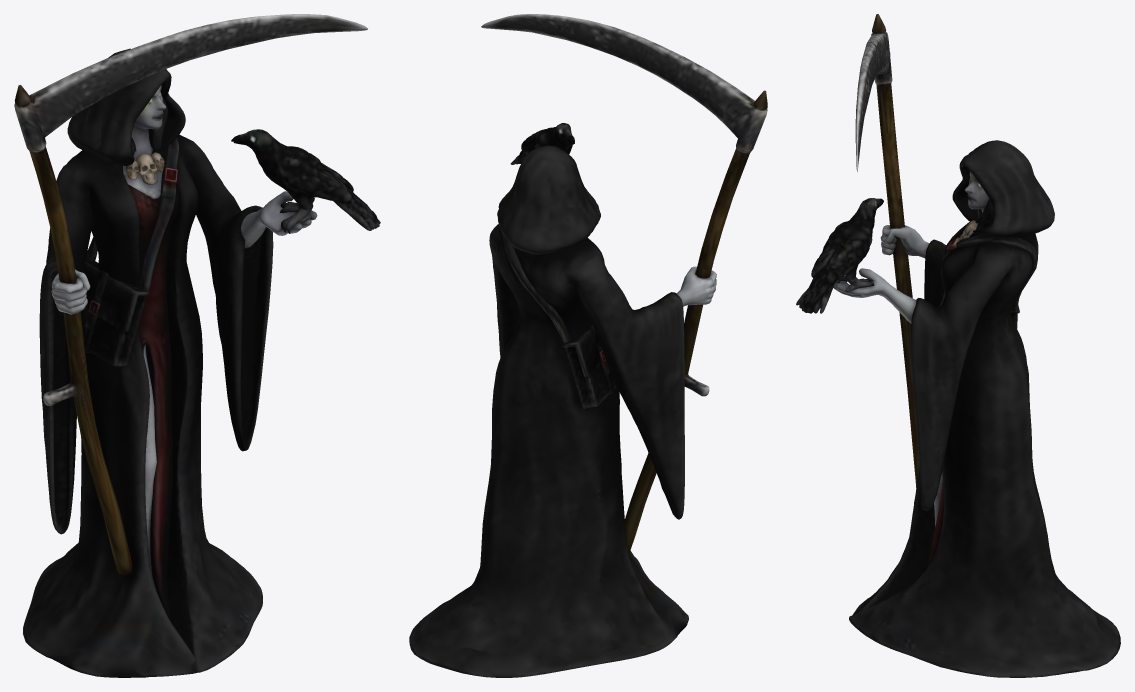
File: MZ4250 - Human Female Necromancy Wizard_1.glb
3 renders of one model, left to right at view 1: azimuth 30°, elevation 25°; view 2: azimuth 150°, elevation 25°; view 3: azimuth 270°, elevation 25°, orthographic. The views are drawn at different scales.
Visible parts, largest first — view 1: Crow t.001; view 2: Crow t.001; view 3: Crow t.001.
Boxes of the visible parts, left/top/right/bottom form: Crow t.001: left=14, top=14, right=380, bottom=677; Crow t.001: left=409, top=14, right=767, bottom=677; Crow t.001: left=796, top=14, right=1120, bottom=677.
Size of the model in its own units: 0.5925 by 1.07 by 0.5638.
1 material, 1 textured.
